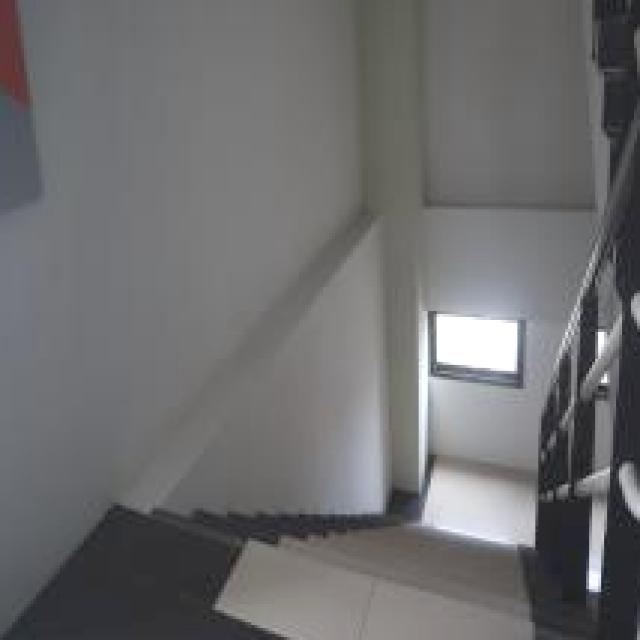downstair: (154, 512, 444, 640)
